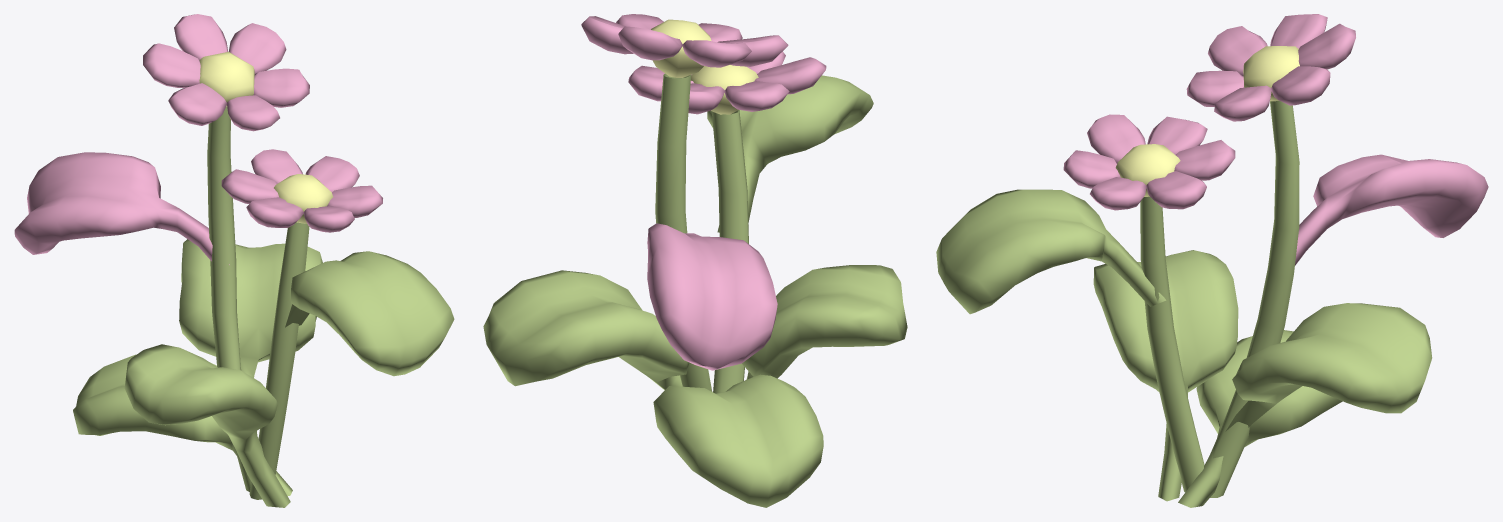
File: Flower_10.fbx
The picture shows the model from 3 angles, left to right: view 1: azimuth 30°, elevation 25°; view 2: azimuth 150°, elevation 25°; view 3: azimuth 270°, elevation 25°; orthographic projection. The views are drawn at different scales.
Parts seen in each view (by area): view 1: polySurface672; view 2: polySurface672; view 3: polySurface672.
Boxes of the visible parts, box(x1,y1,x2,y2) form: polySurface672: box(14, 14, 454, 507); polySurface672: box(483, 14, 907, 507); polySurface672: box(936, 14, 1488, 507).
Size of the model in its own units: 36.19 by 55.03 by 58.9.
